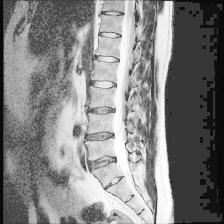disc: (93, 51, 123, 67), (91, 77, 120, 93), (98, 6, 127, 21), (97, 29, 125, 42)
hdisc: (86, 154, 120, 172), (84, 129, 118, 146), (87, 103, 119, 119)
